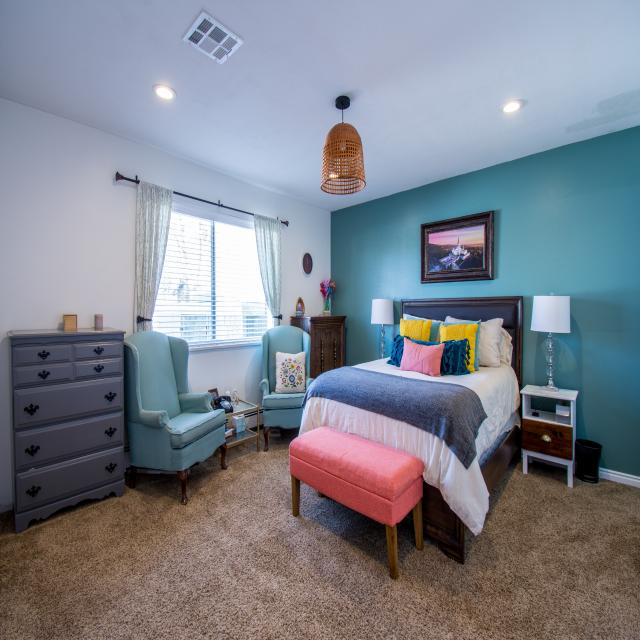floor: (0, 425, 640, 640)
wall: (0, 97, 331, 516), (330, 125, 640, 488), (420, 210, 494, 283), (187, 342, 263, 408)
